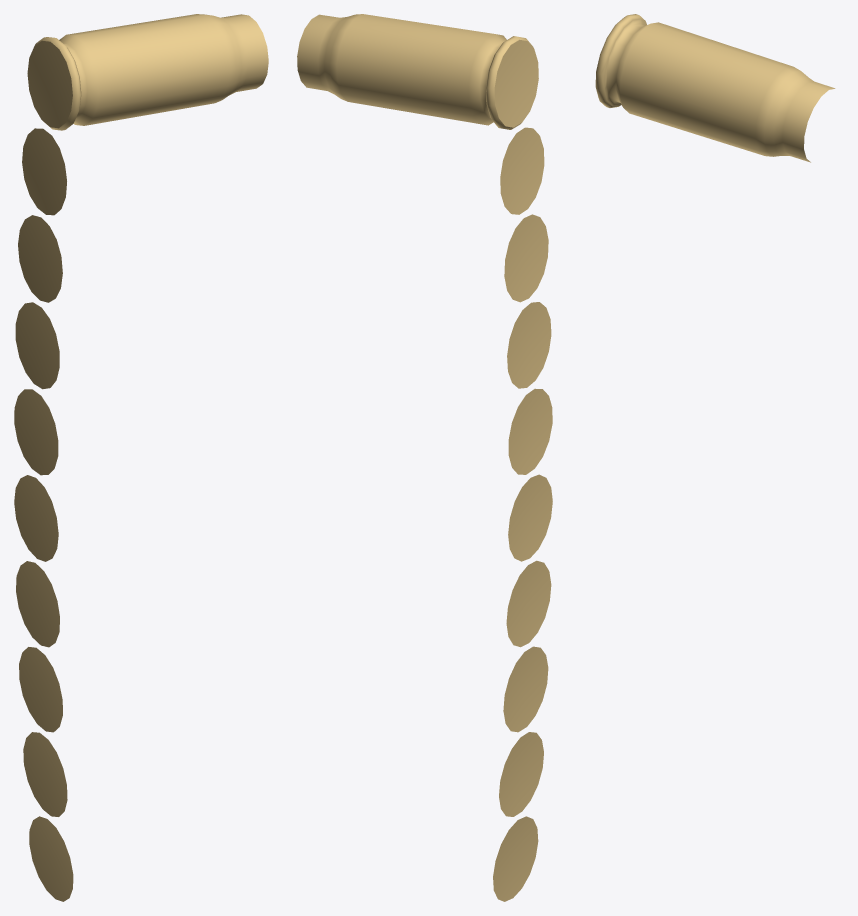
The model's file is bullet_763x25mm.glb.
3 views of the same model, side by side, from view 1: azimuth 30°, elevation 25°; view 2: azimuth 150°, elevation 25°; view 3: azimuth 330°, elevation 25° (orthographic). The views are drawn at different scales.
Parts seen in each view (by area): view 1: bullet_763x25mm; view 2: bullet_763x25mm; view 3: bullet_763x25mm.
Boxes of the visible parts, x1,y1,x2,y2 form: bullet_763x25mm: (14,14,268,901); bullet_763x25mm: (297,14,552,901); bullet_763x25mm: (595,14,835,162).
Size of the model in its own units: 0.0279 by 0.1057 by 0.0106.
